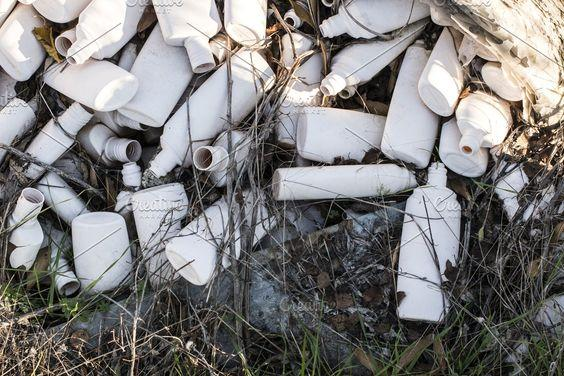HDPE: (147, 48, 276, 179), (164, 187, 284, 286), (395, 160, 461, 323), (0, 97, 95, 204), (117, 21, 195, 129), (377, 38, 440, 169), (319, 25, 429, 98), (129, 180, 191, 295), (63, 0, 148, 71), (39, 54, 141, 112), (293, 105, 394, 163), (268, 163, 417, 201), (69, 209, 134, 296), (151, 0, 222, 73), (317, 0, 433, 41), (416, 26, 467, 118), (0, 0, 48, 84), (454, 91, 516, 156), (8, 186, 48, 273), (221, 0, 267, 51)
